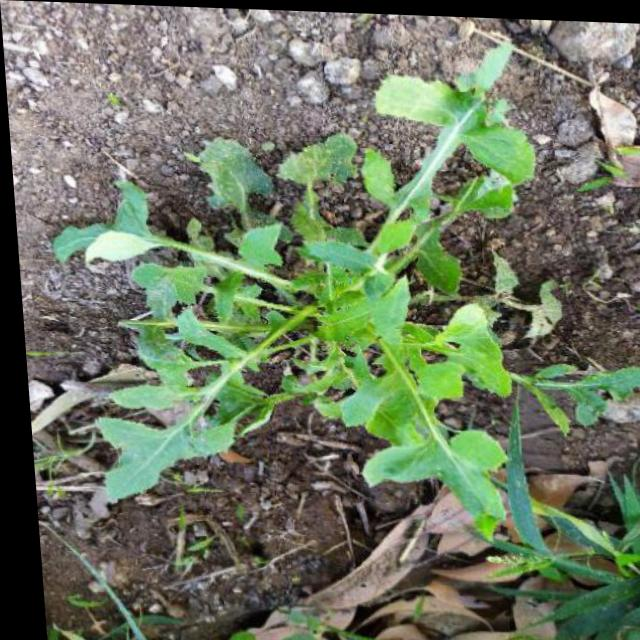weed: (34, 20, 611, 583)
